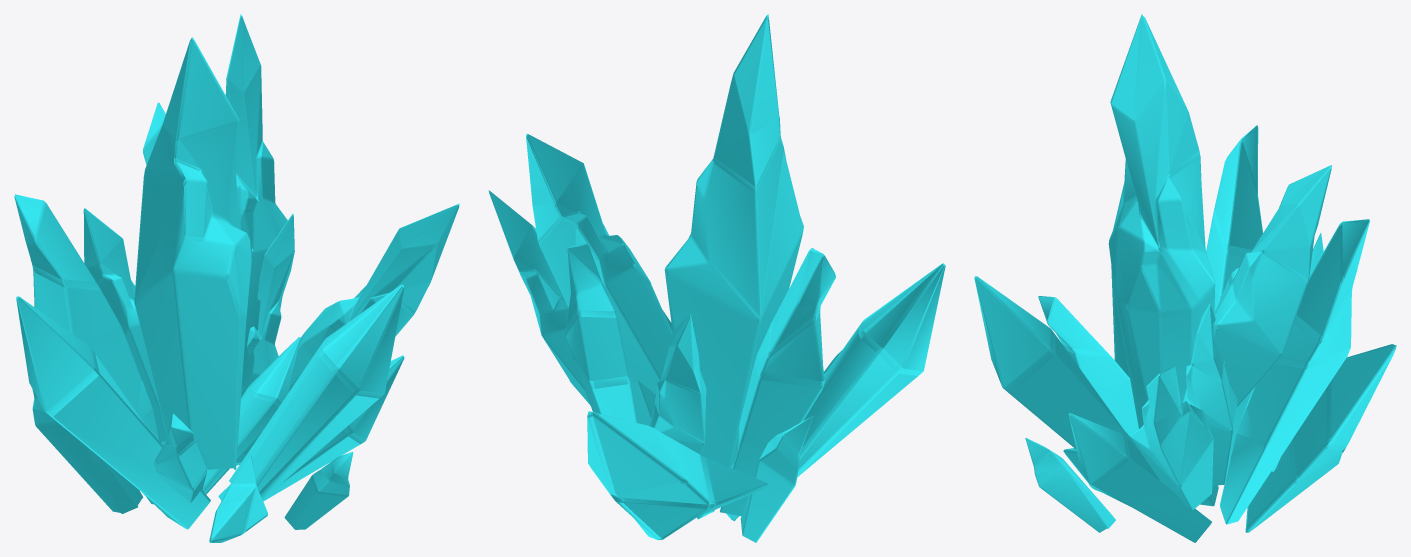
Rendered from 5-shuijing.FBX.
3 renders of one model, left to right at view 1: azimuth 30°, elevation 25°; view 2: azimuth 150°, elevation 25°; view 3: azimuth 270°, elevation 25°, orthographic. The views are drawn at different scales.
Visible parts, largest first — view 1: Object120; view 2: Object120; view 3: Object120.
Boxes of the visible parts, x1,y1,x2,y2 form: Object120: [14, 14, 459, 542]; Object120: [488, 14, 945, 542]; Object120: [974, 14, 1396, 542].
Bounding box in the file's own units: 0.6412 × 0.6948 × 0.5387.
